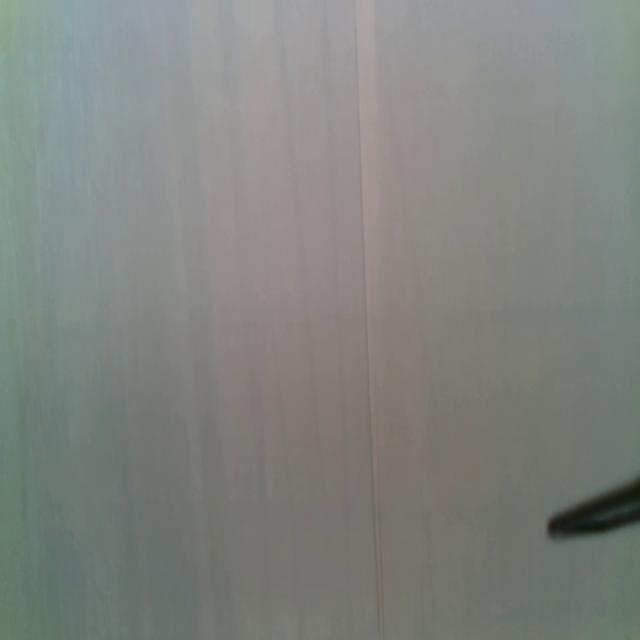color bleeding: (0, 295, 640, 346)
crease: (354, 0, 385, 640)
